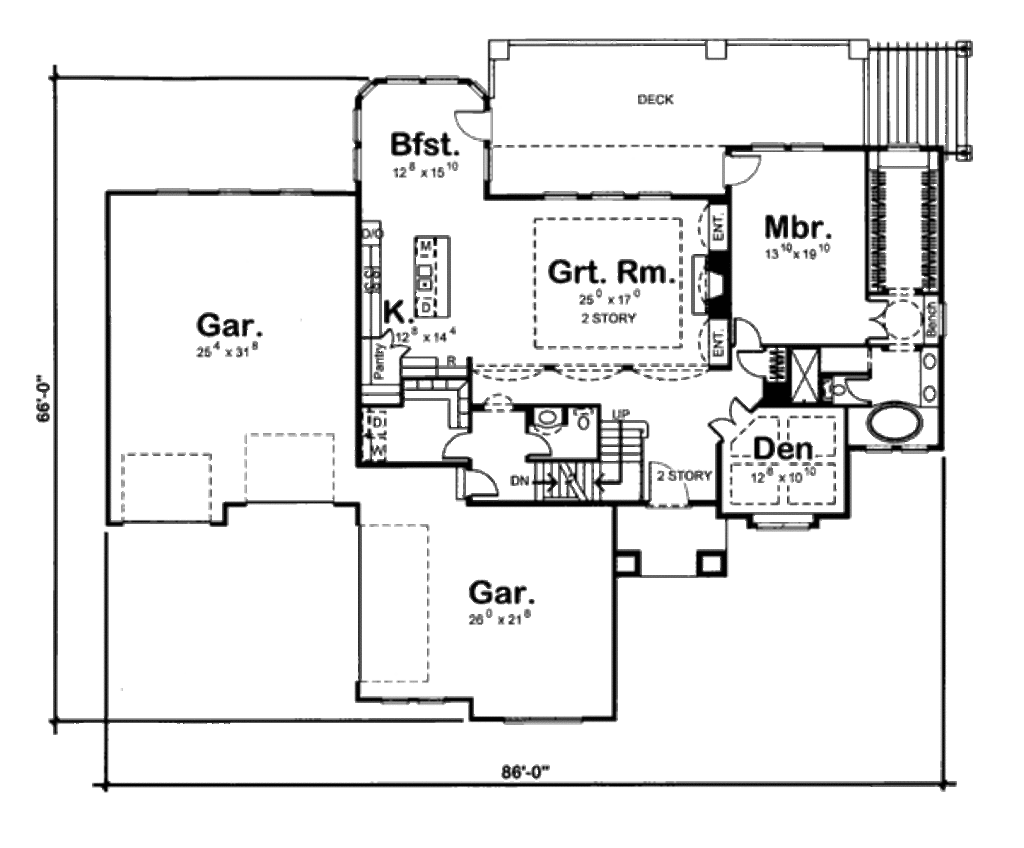door: (696, 387, 755, 449), (648, 457, 701, 507), (454, 463, 498, 507), (451, 102, 496, 144), (379, 328, 417, 374), (729, 348, 772, 387), (434, 425, 479, 461), (722, 148, 760, 187), (519, 423, 556, 461), (735, 307, 769, 346), (865, 298, 888, 345), (850, 375, 873, 400)
kitchen_bar: (398, 220, 464, 320)
large_sink: (822, 374, 850, 407), (569, 408, 593, 433)
small_sink: (921, 356, 944, 406), (529, 400, 565, 428)
stairs: (854, 42, 985, 161), (598, 406, 651, 512), (521, 456, 650, 498)
twin_sink: (415, 263, 438, 296)
window: (542, 182, 671, 207), (150, 186, 314, 199), (746, 506, 821, 532), (377, 70, 456, 90), (347, 96, 365, 183), (857, 441, 929, 462)
